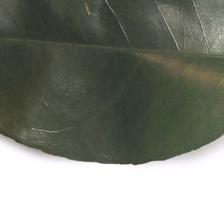healthy: (5, 7, 224, 156)
